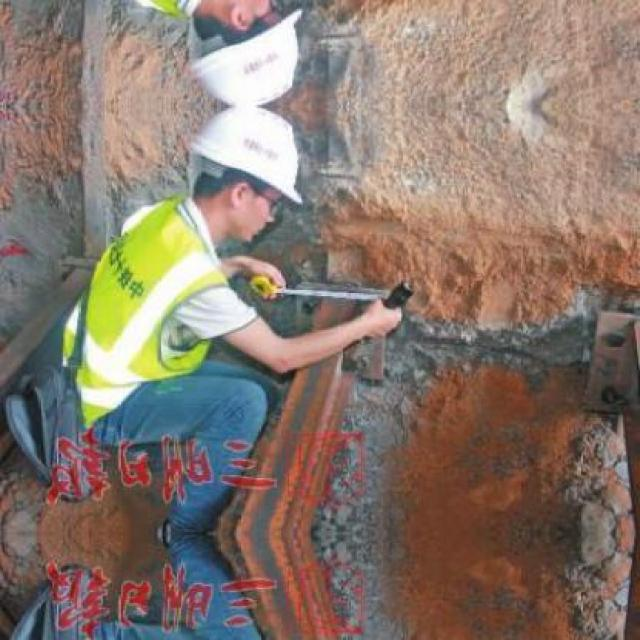Reflective-Jacket: (60, 193, 235, 419)
Safety-Helmet: (172, 105, 314, 208)
